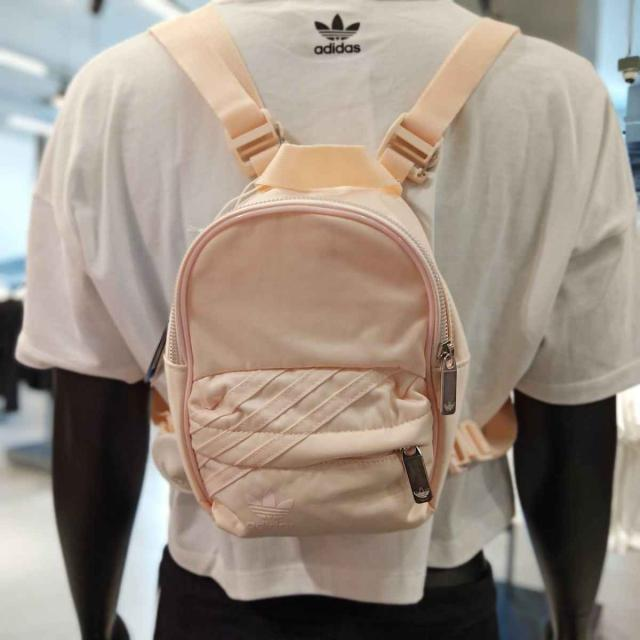handbag: (141, 149, 476, 555)
